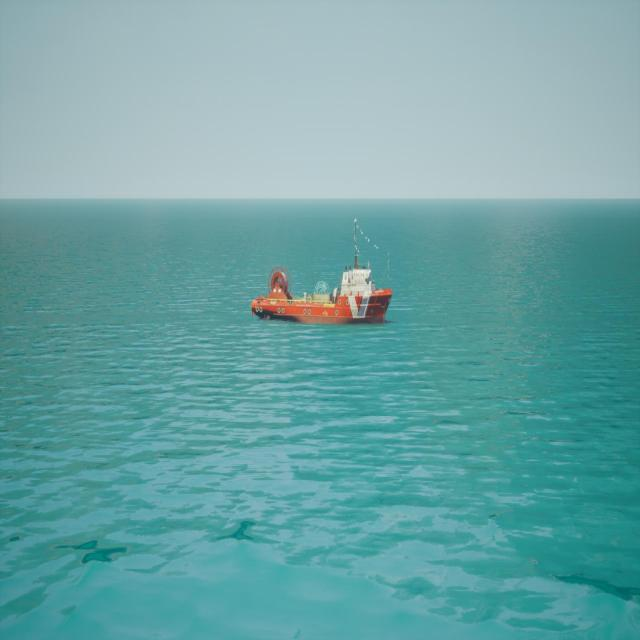tug boat: (252, 222, 395, 328)
